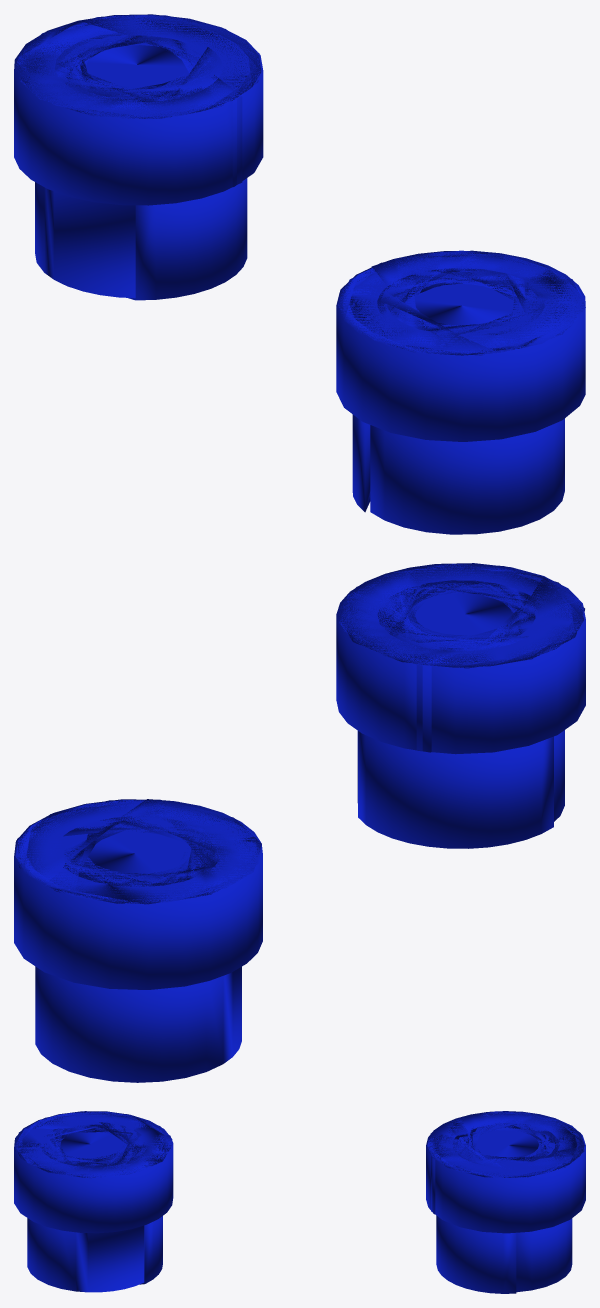
The model's file is tuyeau_element_000038.obj.
The picture shows the model from 3 angles, top to bottom: view 1: azimuth 30°, elevation 25°; view 2: azimuth 150°, elevation 25°; view 3: azimuth 270°, elevation 25°; orthographic projection. The views are drawn at different scales.
Visible parts, largest first — view 1: tuyeau1_Cube.014, tuyeau2_Cube.017; view 2: tuyeau2_Cube.017, tuyeau1_Cube.014; view 3: tuyeau1_Cube.014, tuyeau2_Cube.017.
Part boxes in pixels (box(x1,y1,x2,y2)): tuyeau1_Cube.014: box(14, 14, 263, 300); tuyeau2_Cube.017: box(336, 250, 585, 534); tuyeau2_Cube.017: box(336, 563, 585, 848); tuyeau1_Cube.014: box(14, 799, 262, 1082); tuyeau1_Cube.014: box(426, 1111, 585, 1293); tuyeau2_Cube.017: box(14, 1111, 173, 1292).
Bounding box in the file's own units: 3529 × 2917 × 12626.
